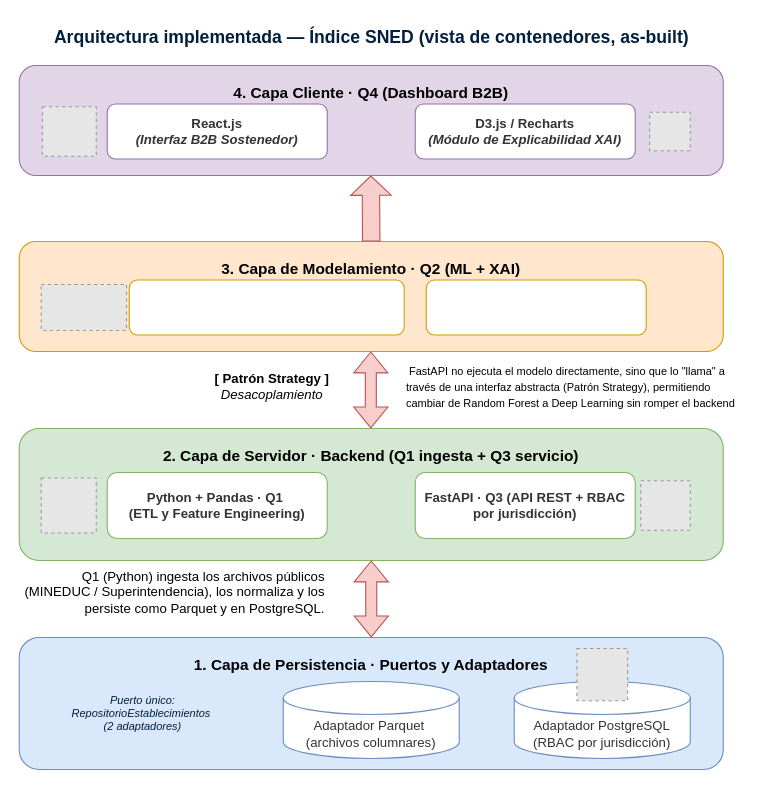
The diagram is 762 pixels wide and 789 high, and some of its shapes have lost their labels. Grey dashed boxes stand in for pictures. Here are the shapes that lost their labels. From the top down, the centre of each, then its label:
At [266,307]: "Scikit-Learn · HistGradientBoosting (motor global) + RandomForest (por factor)".
At [535,307]: "SHAP + ICE · Explicabilidad (atribución por variable)".
